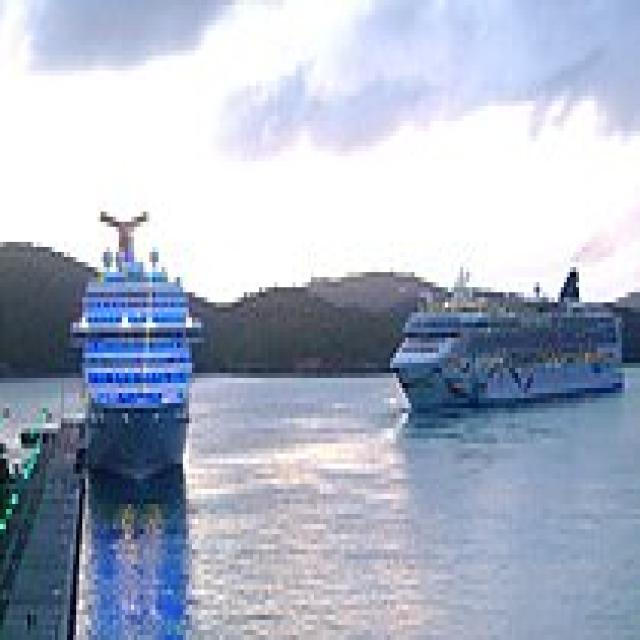Cruise: (64, 202, 204, 488), (381, 257, 622, 413)
